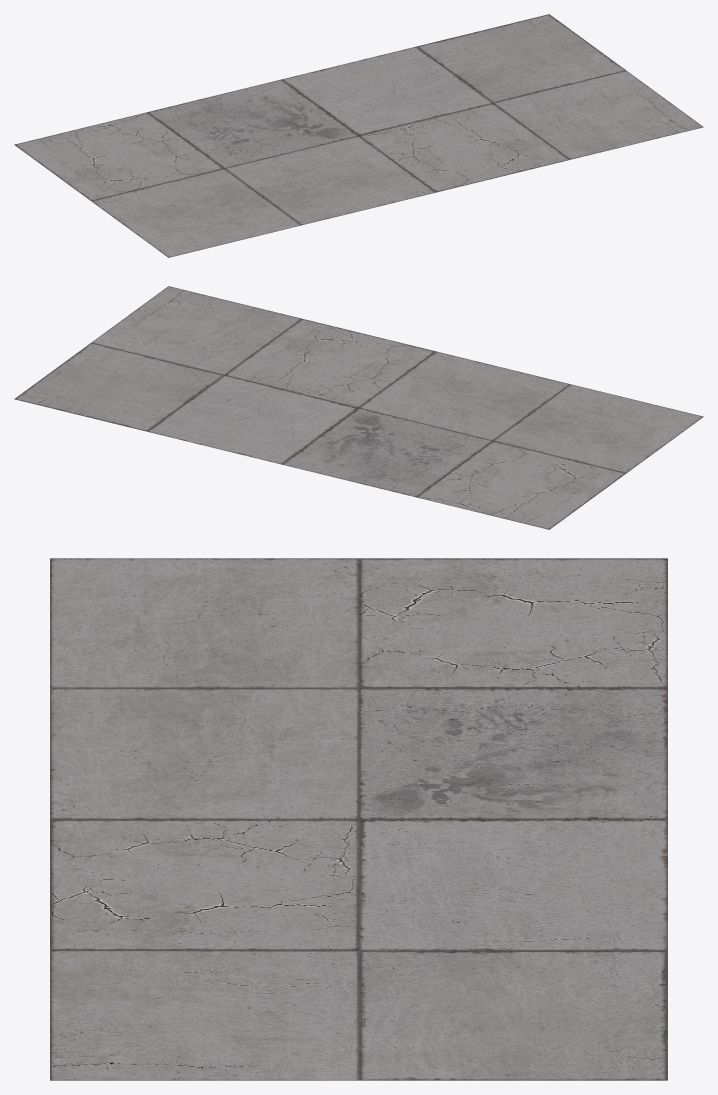
Rendered from MB_Sidewalk_4x2m_03.fbx.
3 views of the same model, one above another, from view 1: azimuth 30°, elevation 25°; view 2: azimuth 150°, elevation 25°; view 3: azimuth 270°, elevation 25° (orthographic). The views are drawn at different scales.
Parts seen in each view (by area): view 1: MB_Sidewalk_4x2m_03; view 2: MB_Sidewalk_4x2m_03; view 3: MB_Sidewalk_4x2m_03.
Part boxes in pixels (bbox=[...]): MB_Sidewalk_4x2m_03: bbox=[14, 14, 703, 257]; MB_Sidewalk_4x2m_03: bbox=[14, 286, 703, 529]; MB_Sidewalk_4x2m_03: bbox=[50, 558, 667, 1080].
Size of the model in its own units: 400 by 0 by 200.
